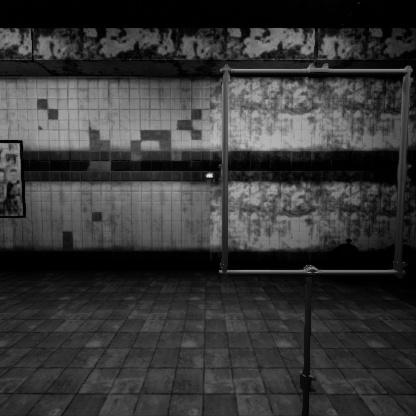gate: (221, 138, 416, 347)
